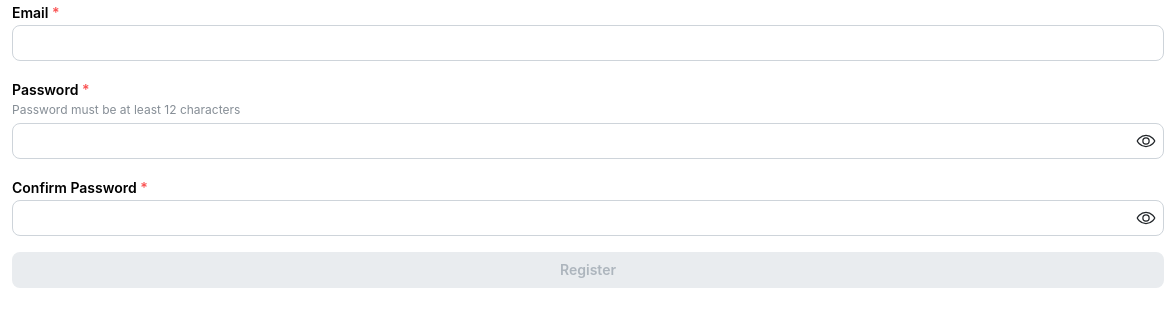
Test: RegisterForm › should validate password confirmation
This screenshot has width=1176, height=325.
Type "SecureP@ss123!" into the password field labelled "Password *" at x=588, y=141, box [13,124,1163,158]
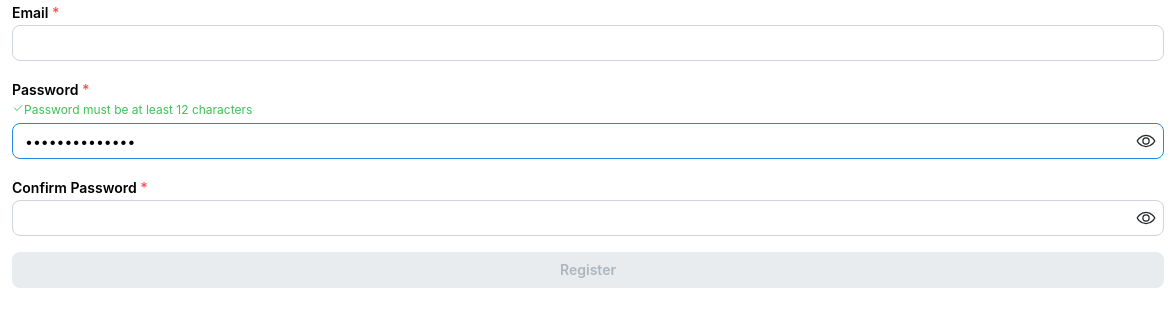
Type "different" into the password field labelled "Confirm Password *" at x=588, y=218, box [13,201,1163,235]
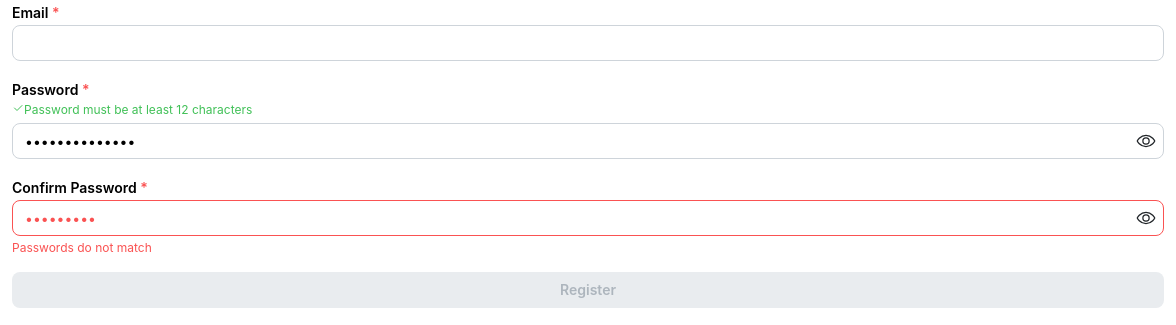
Check: the text "Passwords do not match" is shown, box [12,240,152,255]
